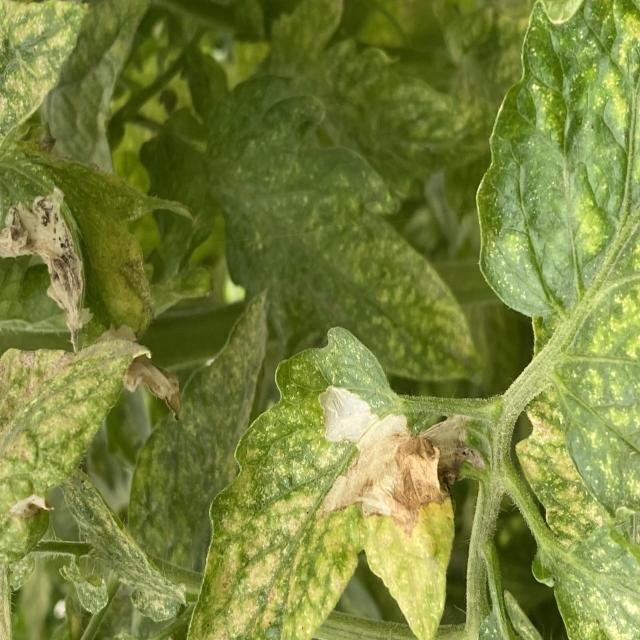Tuta absoluta: (318, 382, 445, 538)
